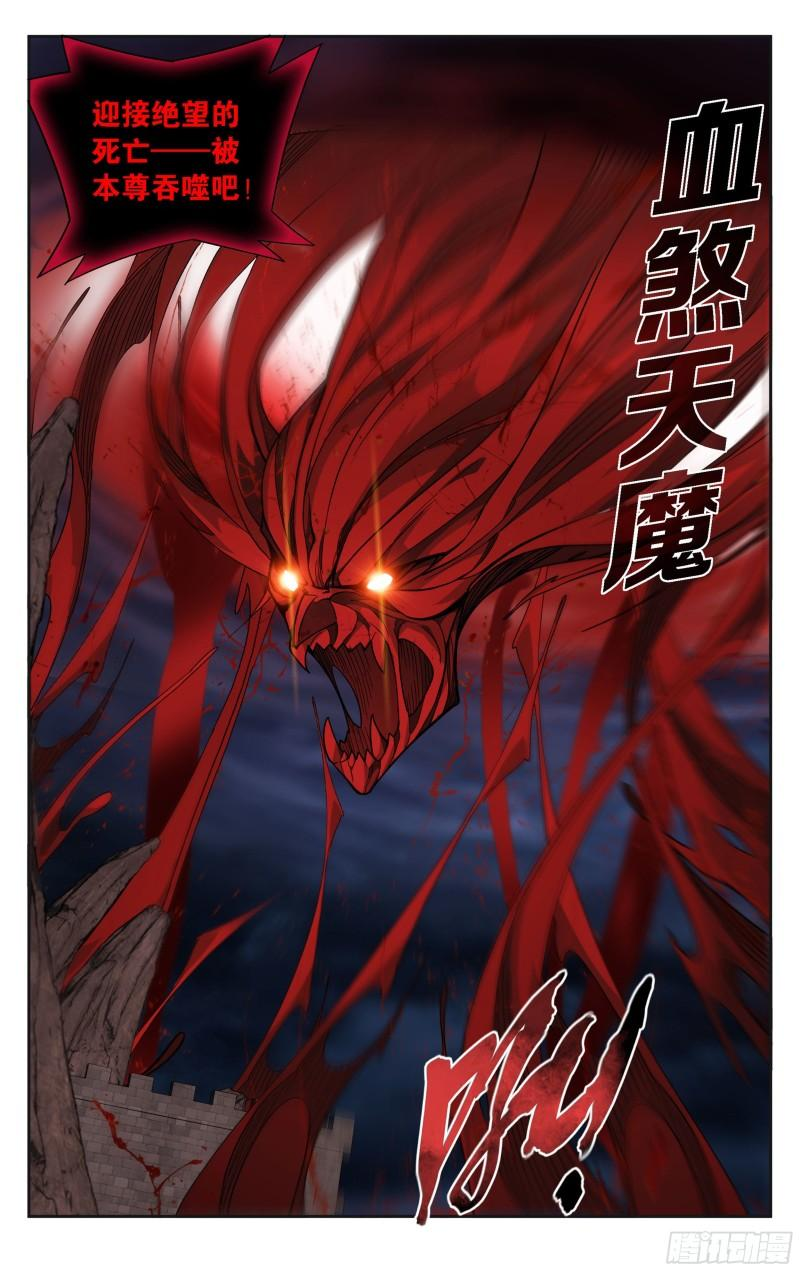boxBad: (24, 35, 321, 284)
minBox: (15, 26, 774, 1225)
